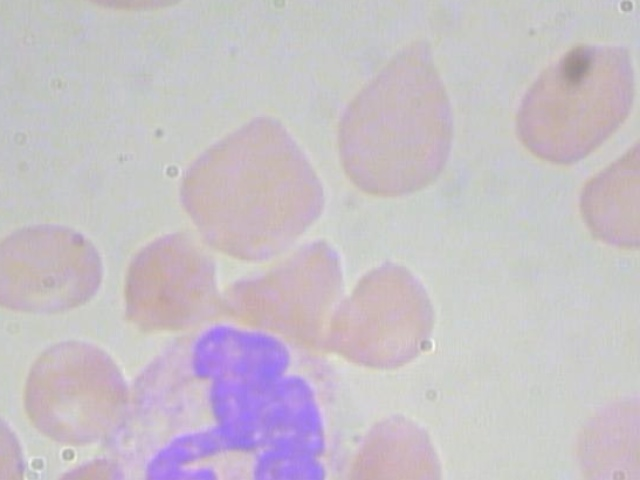RBC: (163, 107, 328, 271), (330, 35, 473, 201), (323, 235, 458, 372), (507, 34, 640, 172), (13, 336, 136, 453), (330, 377, 465, 480), (0, 218, 116, 323), (552, 377, 640, 480), (576, 132, 640, 258), (0, 409, 29, 480)
WBC: (99, 319, 360, 480)
